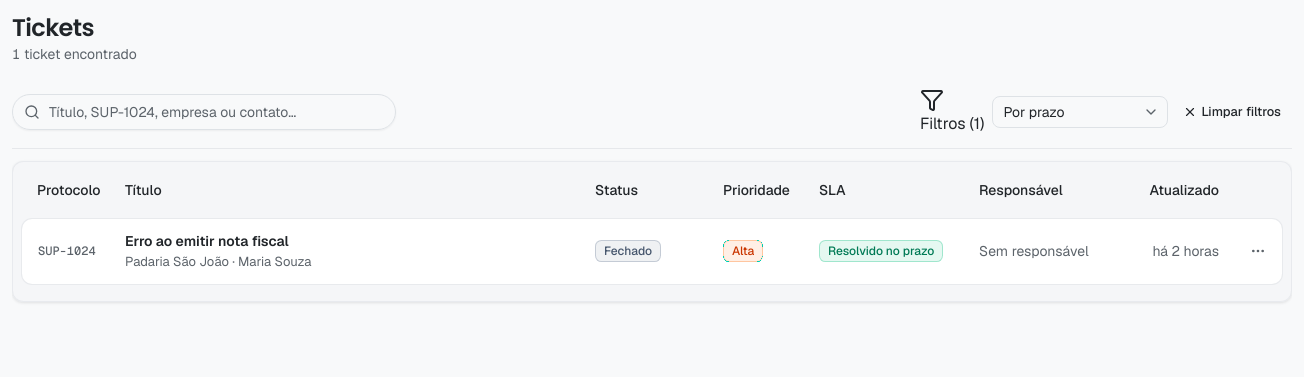
TicketsTable — menu ⋯ › ticket encerrado não oferece 'Atribuir a mim', mesmo sem responsável
Click the button named "Ações de SUP-1024": (1258, 251) [1242,235,1274,267]
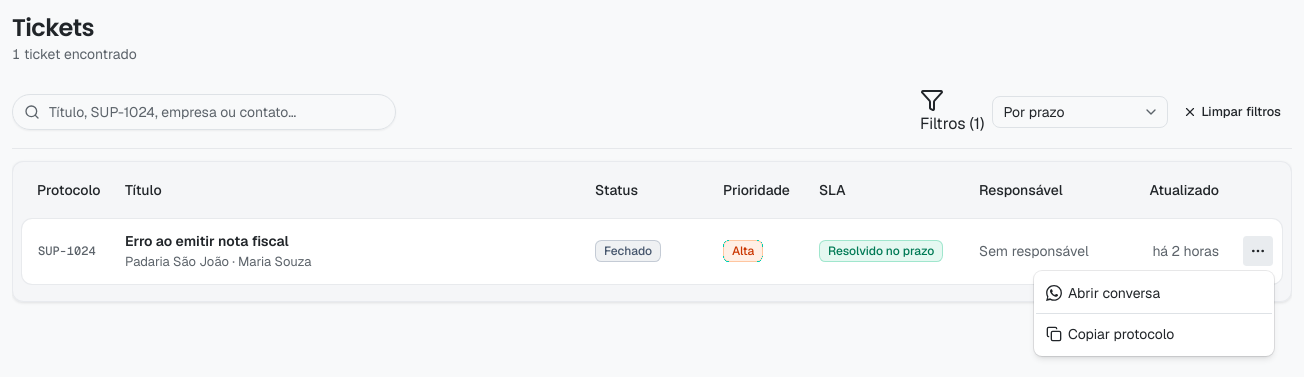
Expected: the menu item "Abrir conversa" is shown, [1046,284,1160,302]
